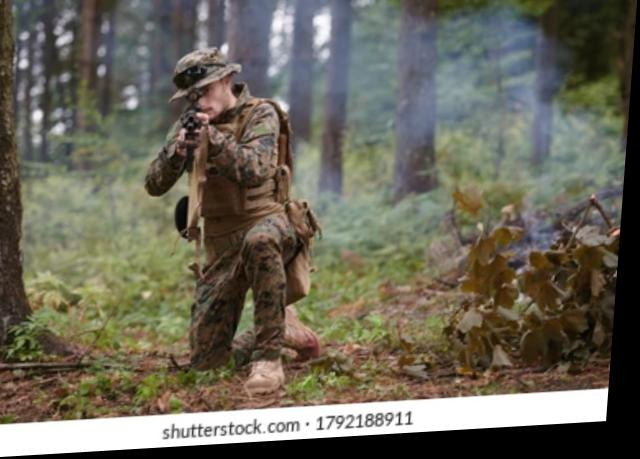other: (134, 45, 321, 387)
